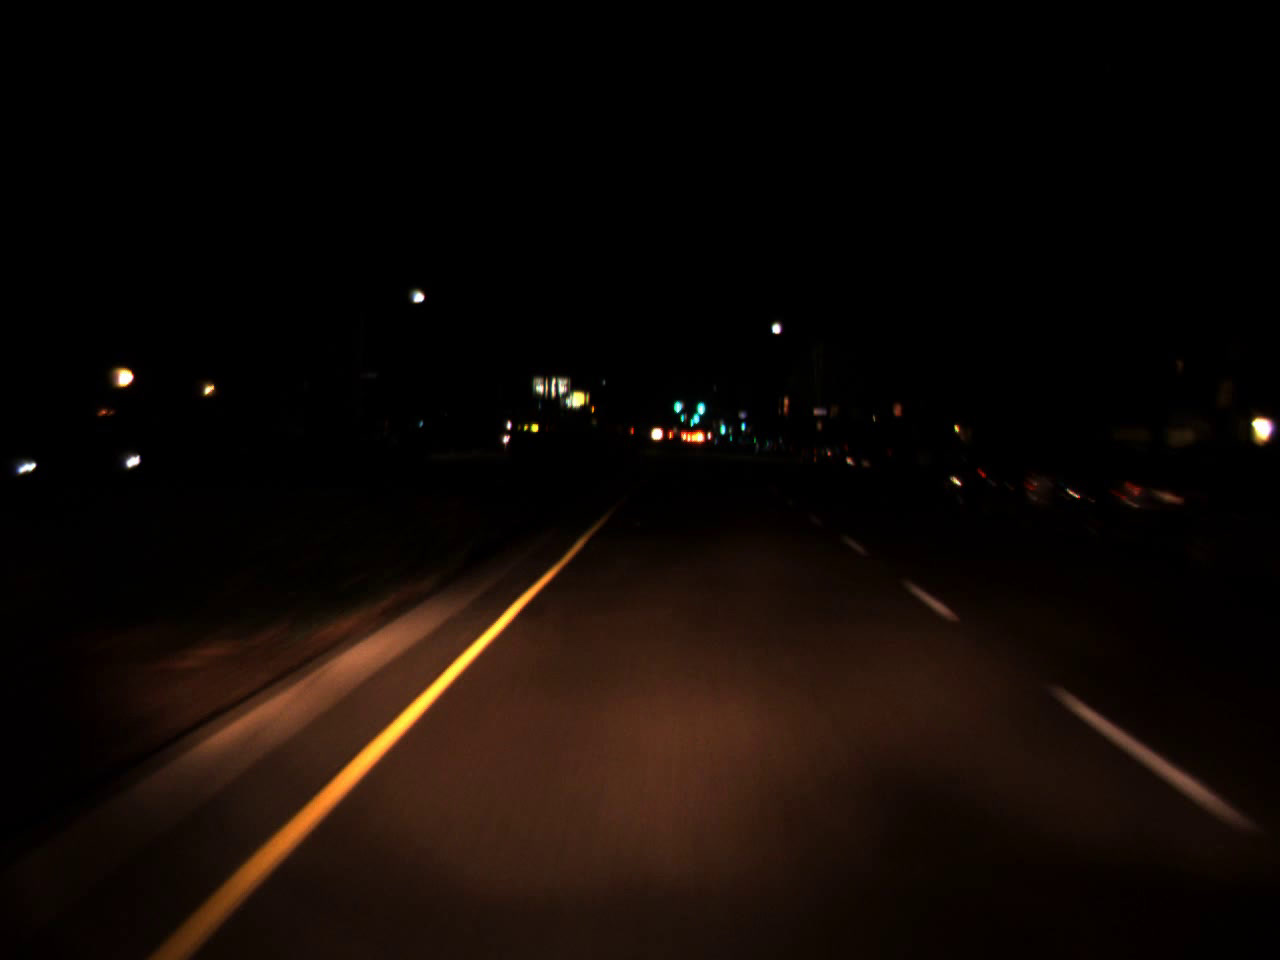go: (671, 385, 681, 418), (696, 394, 705, 418), (686, 412, 698, 427), (718, 415, 725, 436), (739, 415, 746, 433)
